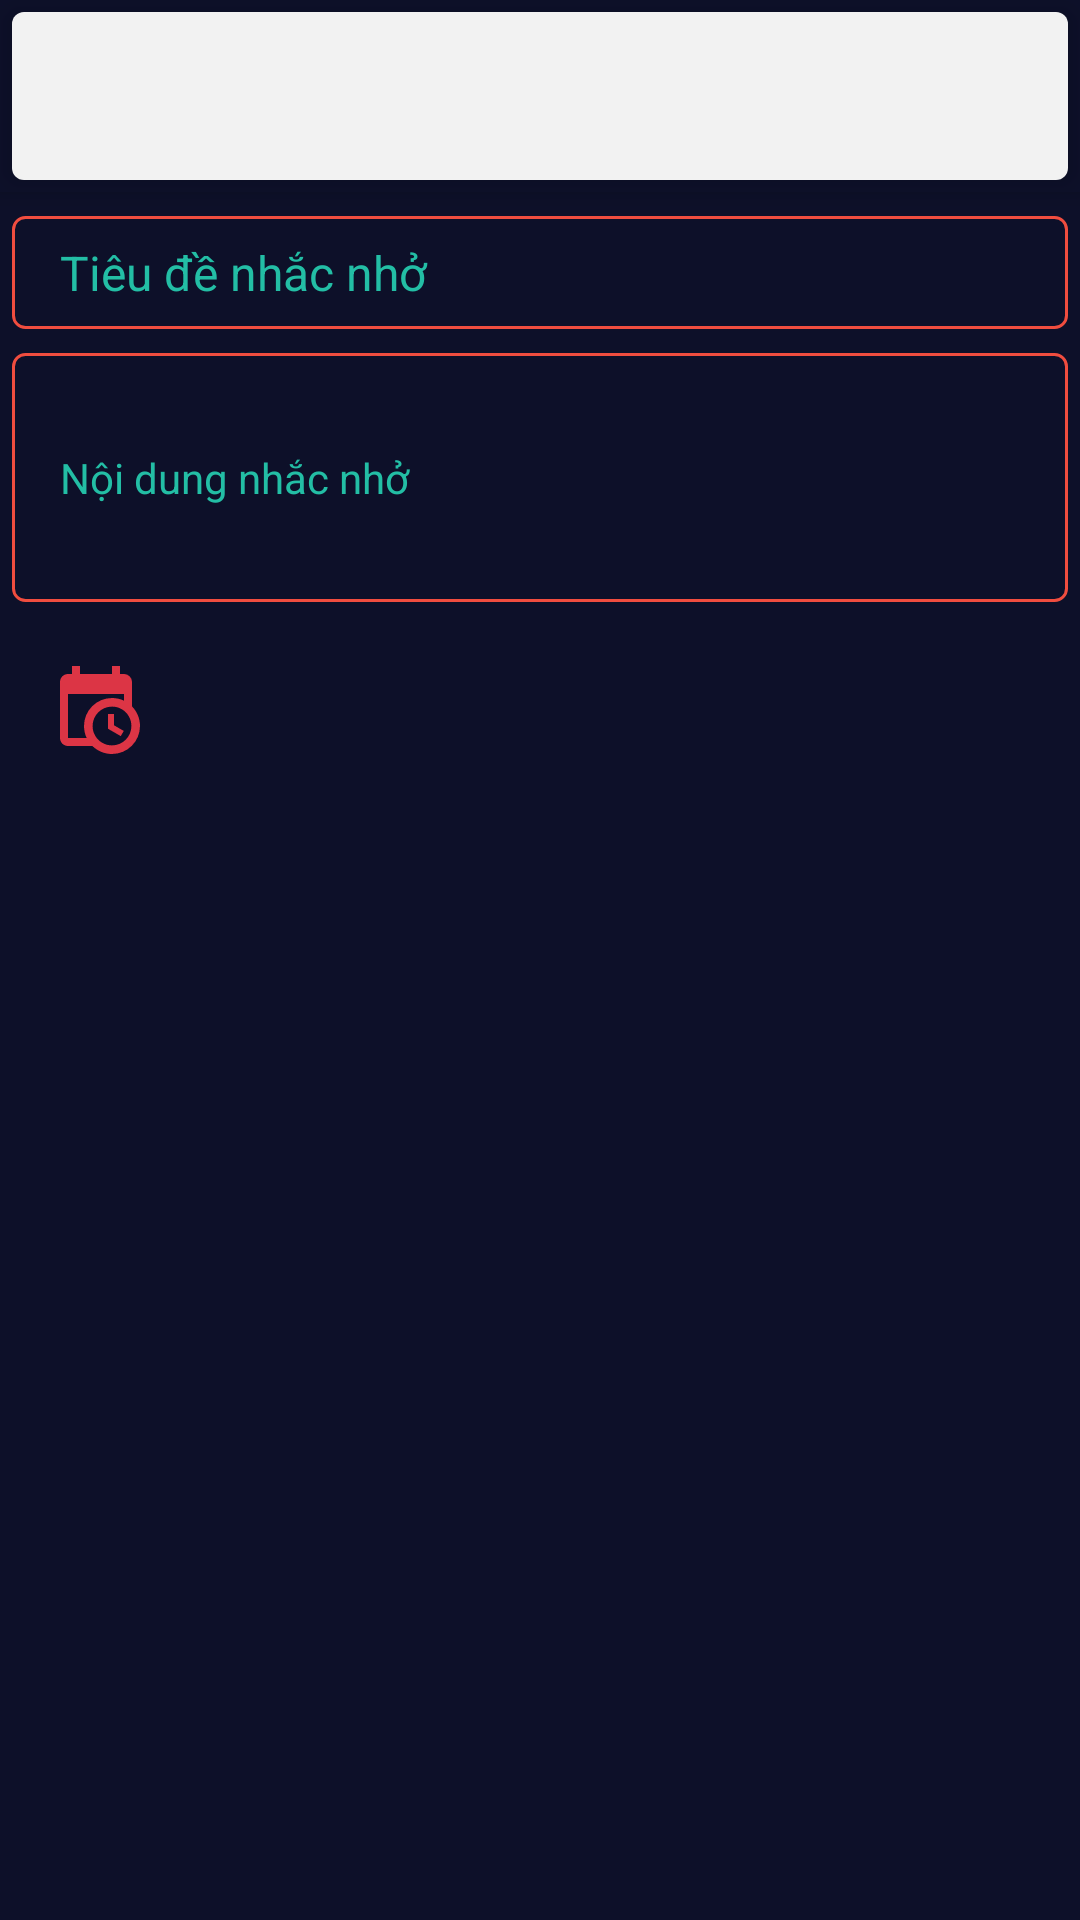

Where to tap for icons on this 1080x1920 app screen, as [x,y]:
calendar clock: [100,710]
